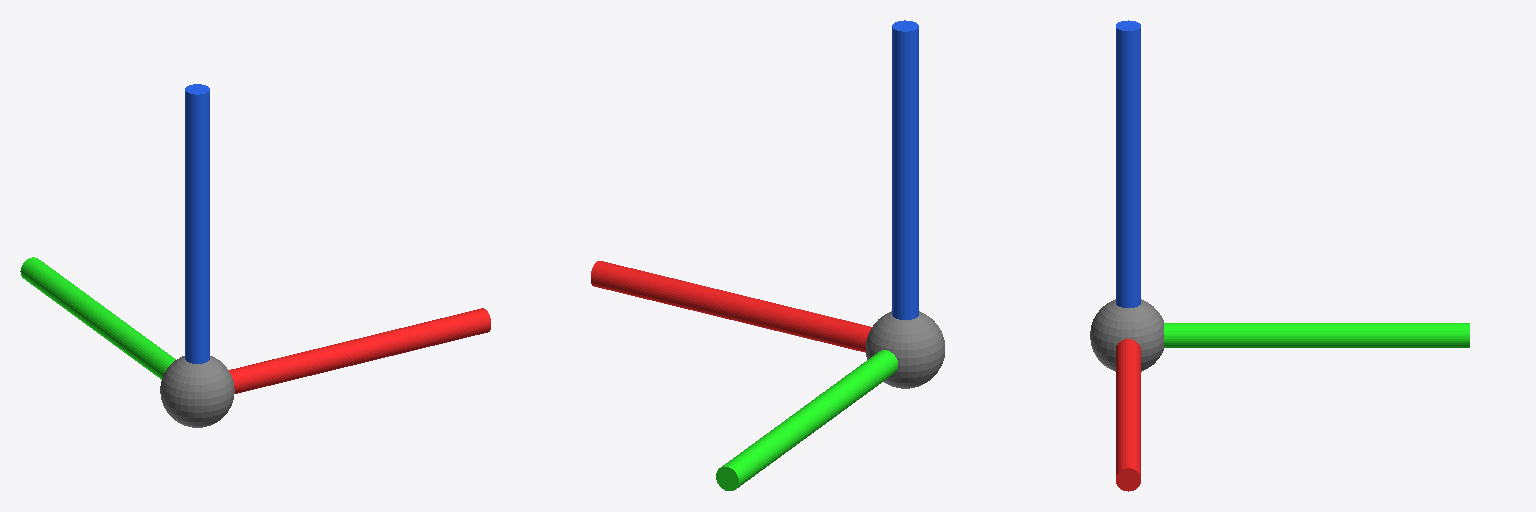
robot.urdf — pose_axes_visual:
<?xml version="1.0"?>
<robot name="pose_axes_visual">
  <link name="base">
    <visual>
      <origin xyz="0 0 0" rpy="0 0 0"/>
      <geometry>
        <sphere radius="0.009"/>
      </geometry>
      <material name="pose_axis_center">
        <color rgba="0.55 0.55 0.55 0.55"/>
      </material>
    </visual>
    <visual>
      <origin xyz="0.04 0 0" rpy="0 1.57079632679 0"/>
      <geometry>
        <cylinder radius="0.003" length="0.08"/>
      </geometry>
      <material name="pose_axis_x">
        <color rgba="1.0 0.2 0.2 0.45"/>
      </material>
    </visual>
    <visual>
      <origin xyz="0 0.04 0" rpy="-1.57079632679 0 0"/>
      <geometry>
        <cylinder radius="0.003" length="0.08"/>
      </geometry>
      <material name="pose_axis_y">
        <color rgba="0.2 1.0 0.2 0.45"/>
      </material>
    </visual>
    <visual>
      <origin xyz="0 0 0.04" rpy="0 0 0"/>
      <geometry>
        <cylinder radius="0.003" length="0.08"/>
      </geometry>
      <material name="pose_axis_z">
        <color rgba="0.2 0.45 1.0 0.45"/>
      </material>
    </visual>
  </link>
</robot>

--- Render facts (derived) ---
The picture shows the robot from 3 angles, left to right: view 1: azimuth 30°, elevation 25°; view 2: azimuth 150°, elevation 25°; view 3: azimuth 270°, elevation 25°; orthographic projection.
Model pose_axes_visual with 1 links and 0 joints (none), rooted at base, posed every joint at zero.
Links seen in each view (by area): view 1: base; view 2: base; view 3: base.
Link boxes in pixels (box(x1,y1,x2,y2)): base: box(20, 84, 490, 427); base: box(591, 20, 944, 490); base: box(1090, 20, 1469, 491).
Size in the robot's own frame: 0.089 by 0.089 by 0.089 metres.
Geometry: primitives only (box / cylinder / sphere), no mesh files.
